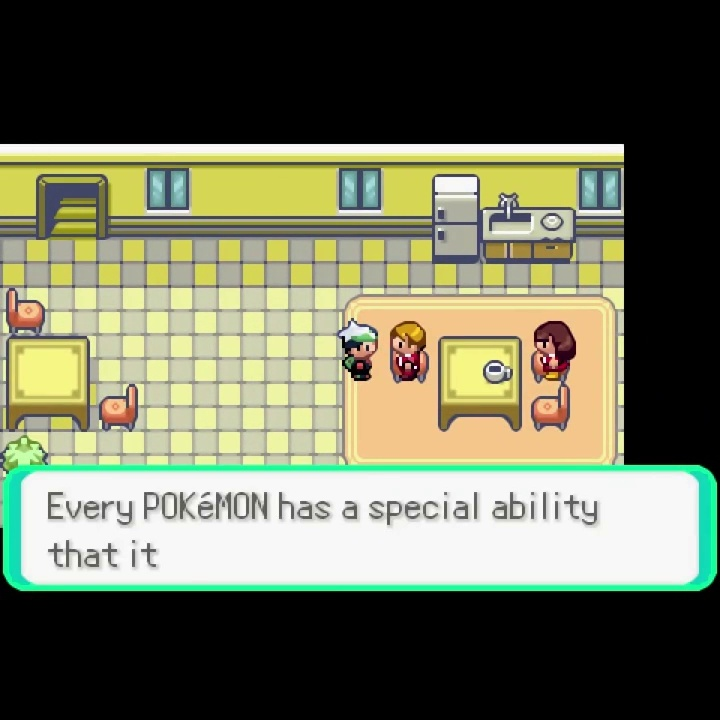npc: (332, 315, 380, 385), (531, 318, 580, 383), (388, 318, 428, 384)
